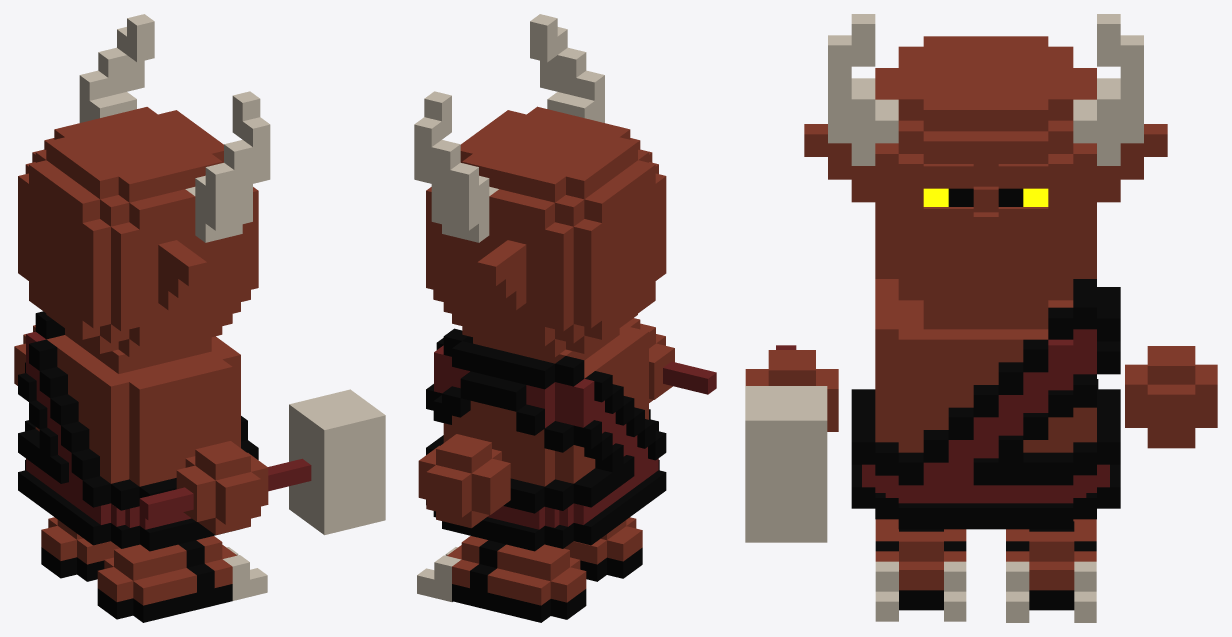
Rendered from Worker Demon.fbx.
3 renders of one model, left to right at view 1: azimuth 30°, elevation 25°; view 2: azimuth 150°, elevation 25°; view 3: azimuth 270°, elevation 25°, orthographic. The views are drawn at different scales.
Visible parts, largest first — view 1: Head, Torso, Cube, FootRight, HandRight, FootLeft; view 2: Head, Torso, FootLeft, HandLeft, FootRight, HandRight, Cube; view 3: Head, Torso, Cube, FootRight, FootLeft, HandLeft, HandRight.
Part boxes in pixels (left/top/right/bottom): Head: left=18, top=14, right=270, bottom=357; Torso: left=18, top=311, right=258, bottom=551; Cube: left=139, top=389, right=385, bottom=535; FootRight: left=97, top=536, right=267, bottom=622; HandRight: left=176, top=441, right=268, bottom=534; FootLeft: left=41, top=517, right=119, bottom=581; Head: left=414, top=14, right=666, bottom=357; Torso: left=426, top=318, right=666, bottom=551; FootLeft: left=417, top=536, right=586, bottom=622; HandLeft: left=418, top=434, right=510, bottom=528; FootRight: left=564, top=517, right=642, bottom=581; HandRight: left=640, top=323, right=674, bottom=402; Cube: left=663, top=361, right=716, bottom=394; Head: left=804, top=14, right=1167, bottom=310; Torso: left=851, top=279, right=1120, bottom=529; Cube: left=745, top=345, right=827, bottom=542; FootRight: left=875, top=519, right=966, bottom=621; FootLeft: left=1006, top=519, right=1096, bottom=622; HandLeft: left=1125, top=346, right=1217, bottom=448; HandRight: left=745, top=350, right=838, bottom=431.
Size of the model in its own units: 348 by 744 by 541.
